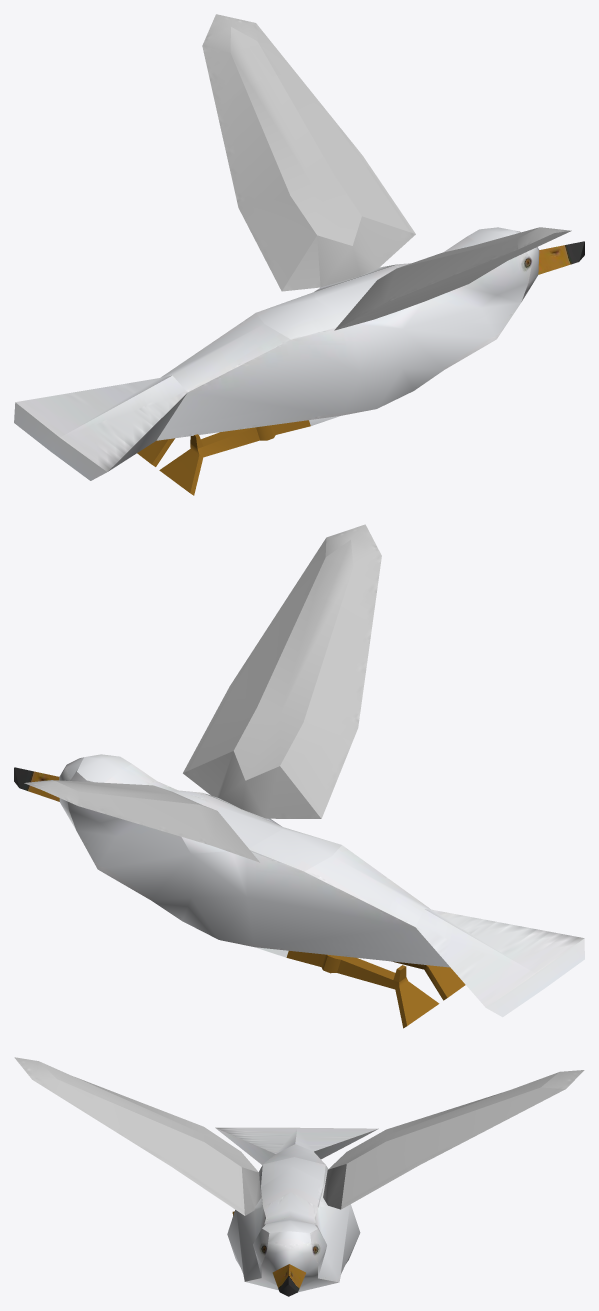
File: seagull.glb
The picture shows the model from 3 angles, top to bottom: view 1: azimuth 30°, elevation 25°; view 2: azimuth 150°, elevation 25°; view 3: azimuth 270°, elevation 25°; orthographic projection. The views are drawn at different scales.
Visible parts, largest first — view 1: Flying_seagull; view 2: Flying_seagull; view 3: Flying_seagull.
Boxes of the visible parts, x1,y1,x2,y2 form: Flying_seagull: (14,14,584,495); Flying_seagull: (14,524,584,1028); Flying_seagull: (14,1057,584,1296).
Size of the model in its own units: 82.17 by 44.24 by 88.47.
1 material, 1 textured.
